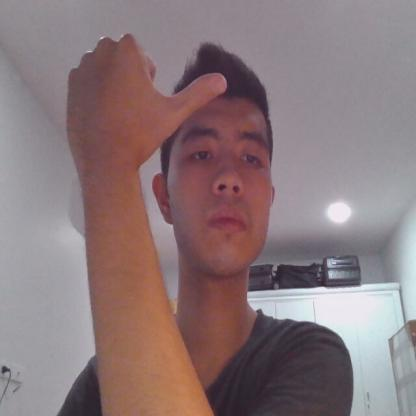left: (66, 32, 229, 172)
